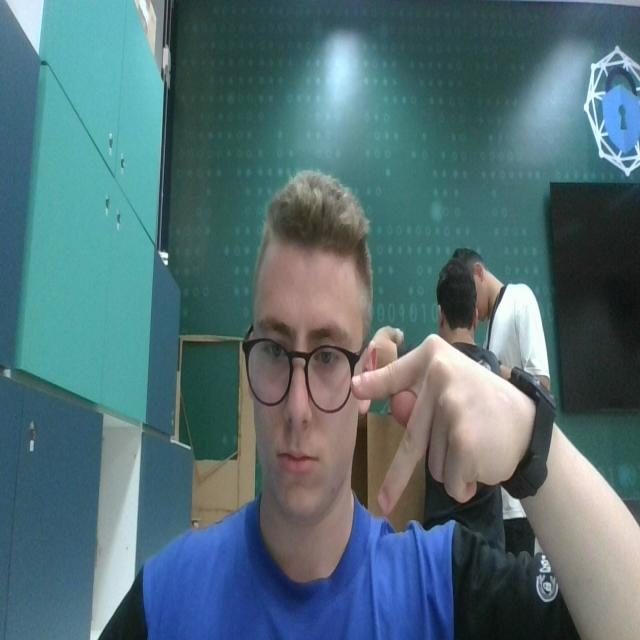P: (348, 340, 524, 524)
